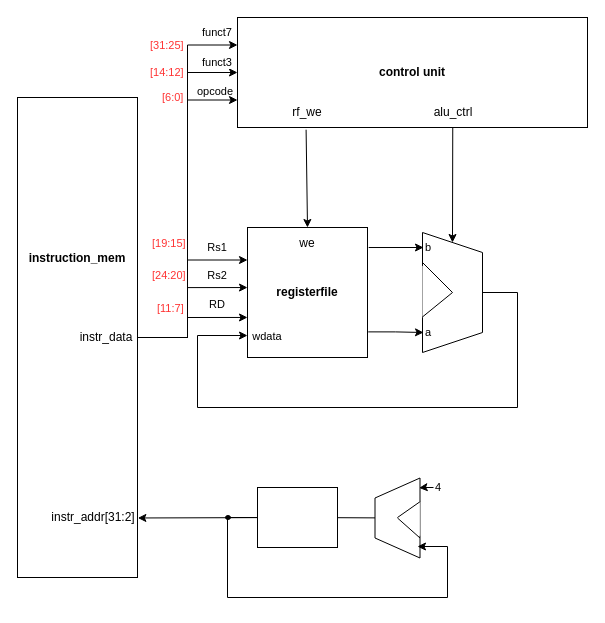
Some shapes in this 605 by 623 pixel diagram are drawn without their labels. The centre of each missing label's shape, as x and y in pixels:
ALU: (452,292)
PC: (297,517)
